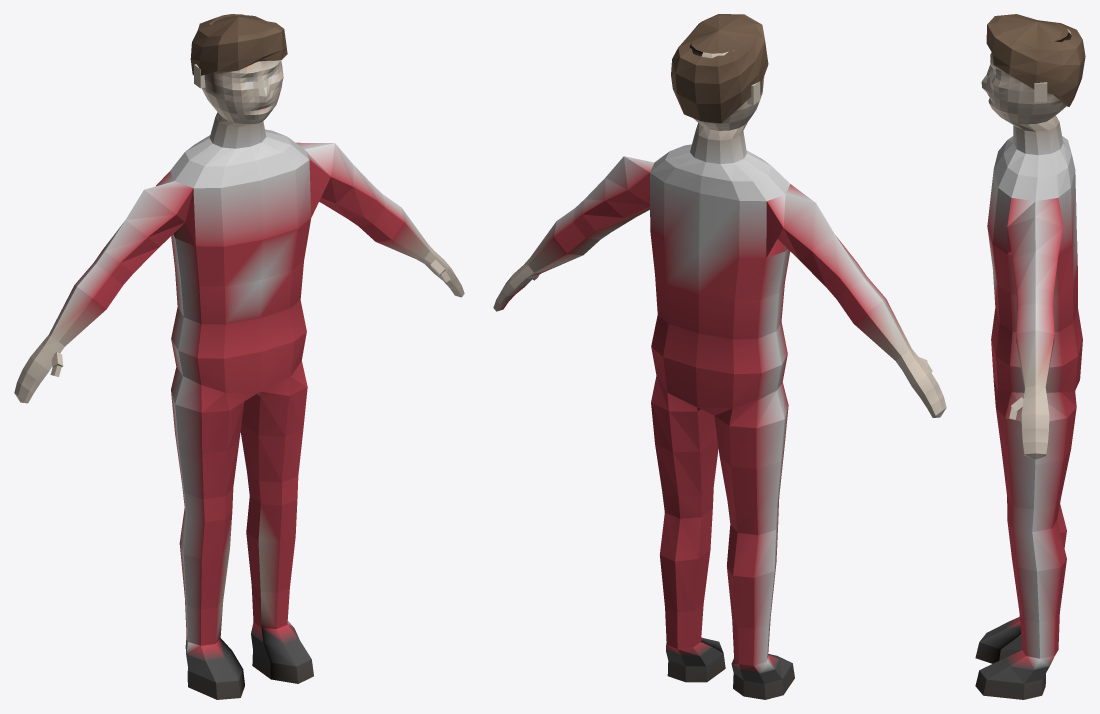
Rendered from char__pessoa__breno.glb.
3 renders of one model, left to right at view 1: azimuth 30°, elevation 25°; view 2: azimuth 150°, elevation 25°; view 3: azimuth 270°, elevation 25°, orthographic.
Parts seen in each view (by area): view 1: char__pessoa__breno; view 2: char__pessoa__breno; view 3: char__pessoa__breno.
Boxes of the visible parts, bbox=[...] form: char__pessoa__breno: bbox=[14, 14, 464, 699]; char__pessoa__breno: bbox=[493, 14, 946, 699]; char__pessoa__breno: bbox=[975, 14, 1085, 699].
Bounding box in the file's own units: 1.29 × 1.82 × 0.2782.
